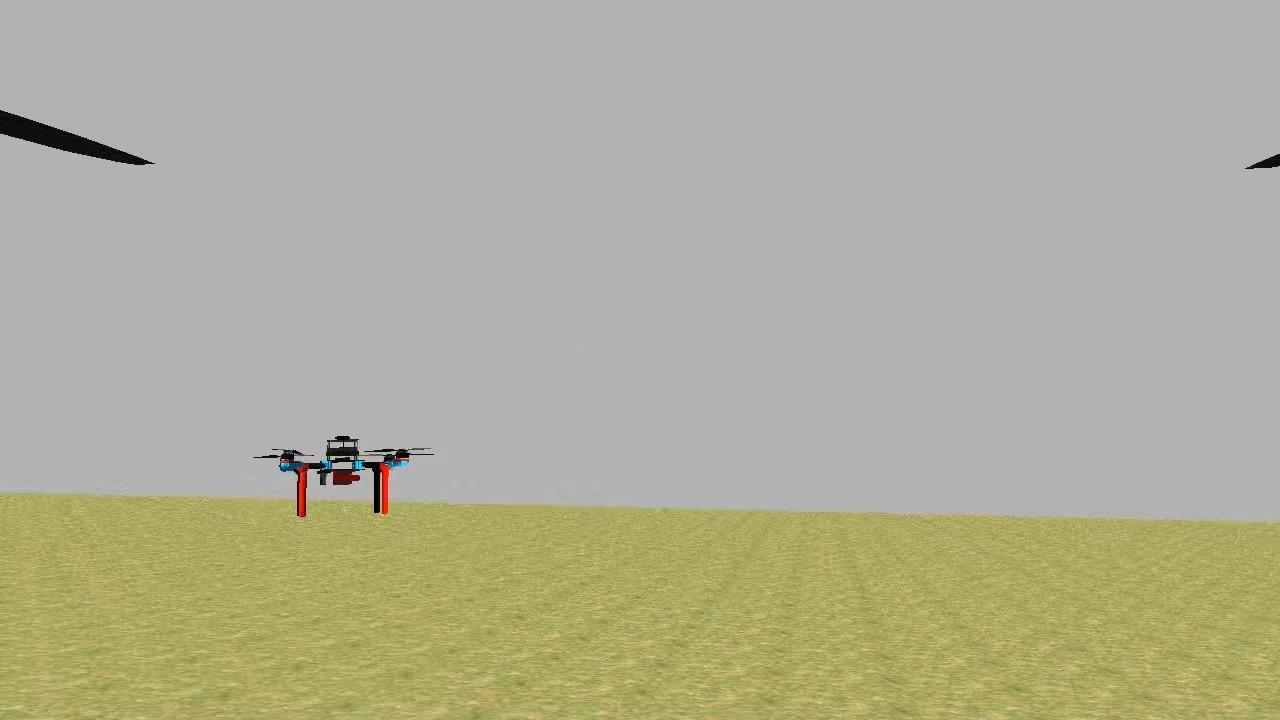UAV: (270, 434, 414, 524)
